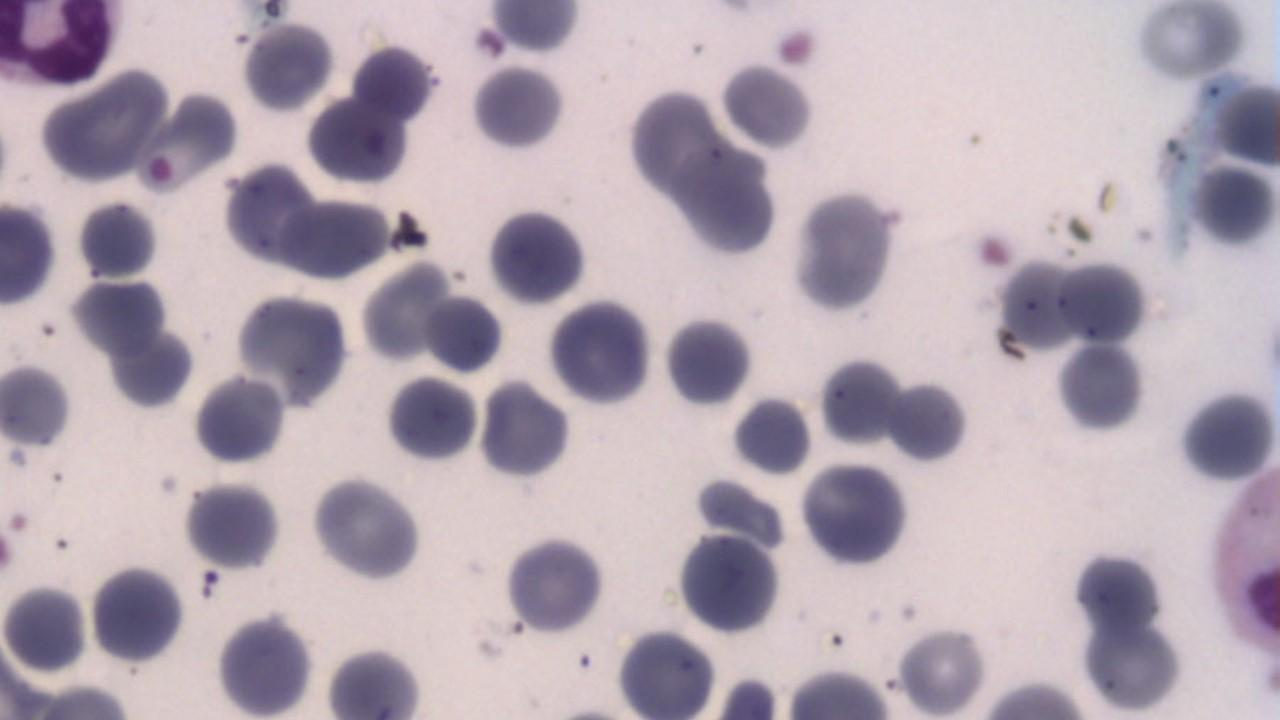Platelets: (786, 182, 904, 320), (303, 474, 423, 584), (500, 530, 608, 636), (212, 608, 316, 718), (482, 204, 590, 306), (1170, 386, 1278, 488), (1129, 2, 1251, 87), (178, 479, 285, 572), (466, 63, 570, 155), (238, 18, 334, 116), (660, 313, 756, 411), (382, 371, 479, 466), (1053, 340, 1147, 438), (718, 61, 818, 153), (1069, 545, 1167, 636), (998, 253, 1078, 354), (727, 395, 814, 476), (74, 201, 160, 282), (0, 359, 73, 448), (483, 2, 584, 56), (1262, 308, 1280, 392)
RBC: (1206, 452, 1280, 671), (36, 66, 166, 187), (308, 475, 423, 584), (798, 460, 910, 570), (546, 297, 652, 409), (0, 0, 124, 95), (86, 558, 190, 666), (502, 532, 608, 636), (474, 379, 574, 484), (213, 614, 317, 714), (1078, 620, 1186, 715), (612, 626, 720, 716), (190, 368, 289, 466), (468, 59, 568, 156), (238, 17, 336, 115), (894, 620, 990, 718), (1055, 254, 1151, 348), (68, 274, 170, 360), (1, 577, 89, 676), (996, 253, 1080, 353), (885, 374, 970, 466), (816, 354, 899, 447), (422, 291, 504, 376), (1, 359, 76, 450)
WBC: (1204, 450, 1280, 676), (790, 182, 904, 317), (796, 456, 916, 572), (672, 529, 786, 638), (211, 606, 321, 716), (1, 2, 130, 95), (482, 202, 594, 308), (87, 558, 188, 668), (179, 478, 286, 574), (189, 370, 289, 465), (0, 358, 75, 451), (0, 194, 59, 312)
